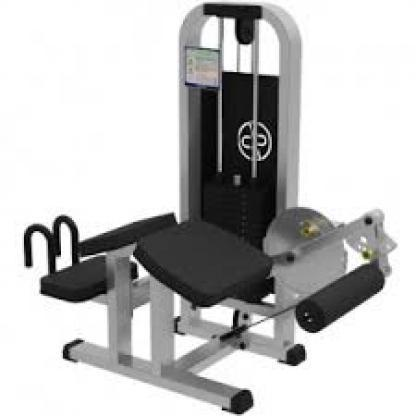leg press: (11, 0, 416, 416)
